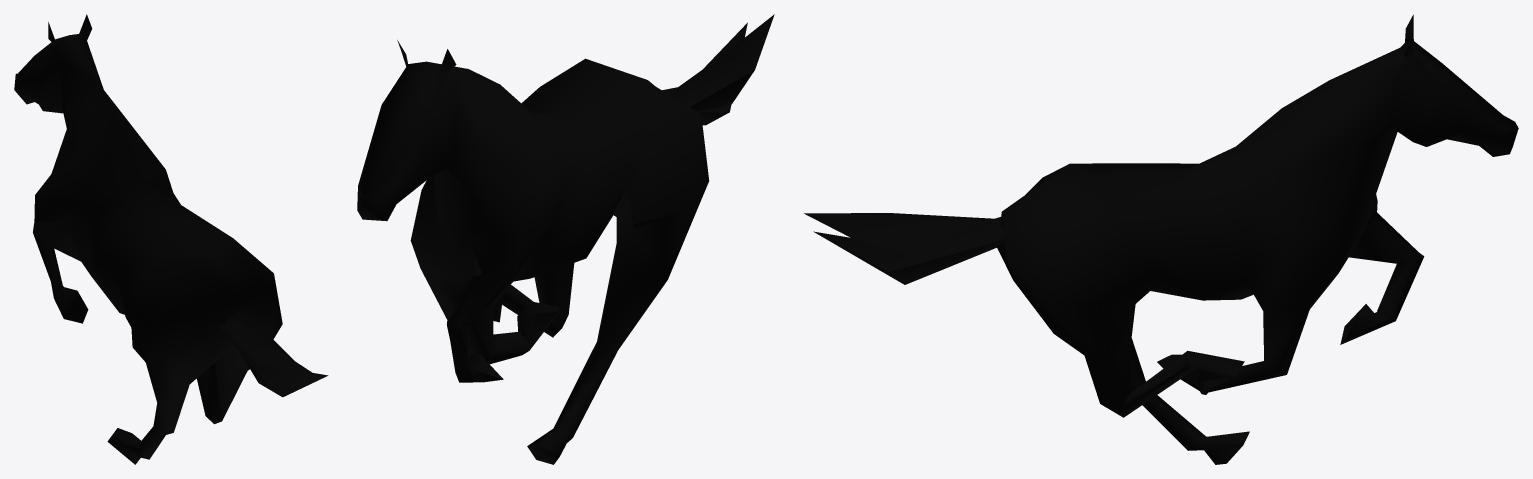
File: boy_blk.ico.obj
3 renders of one model, left to right at view 1: azimuth 30°, elevation 25°; view 2: azimuth 150°, elevation 25°; view 3: azimuth 270°, elevation 25°, orthographic. The views are drawn at different scales.
Size of the model in its own units: 0.8787 by 2.6 by 3.75.
1 material, 1 textured.
